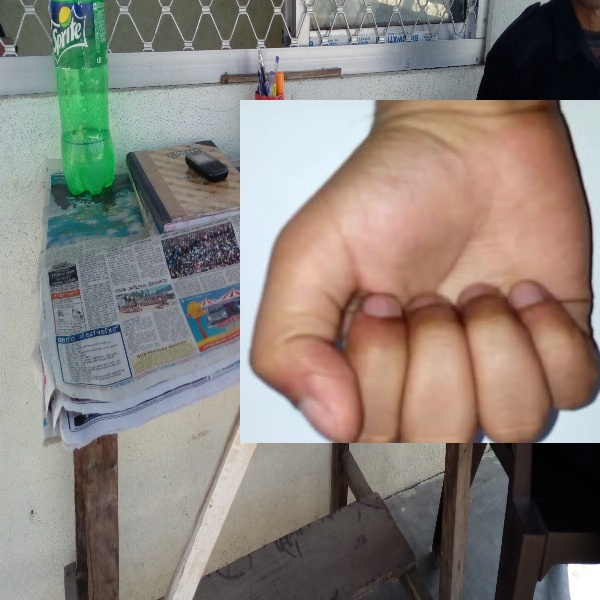A: (240, 100, 600, 443)
